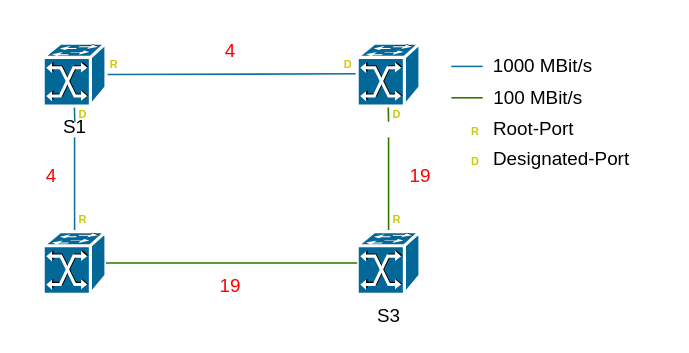
The diagram is 689 pixels wide and 353 high, and some of its shapes have lost their labels. The shapes that lost their labels are listed below. From the top down, each one's centre as x and y in pixels, then its label:
the point at 388,74: S2
the point at 74,262: S4
